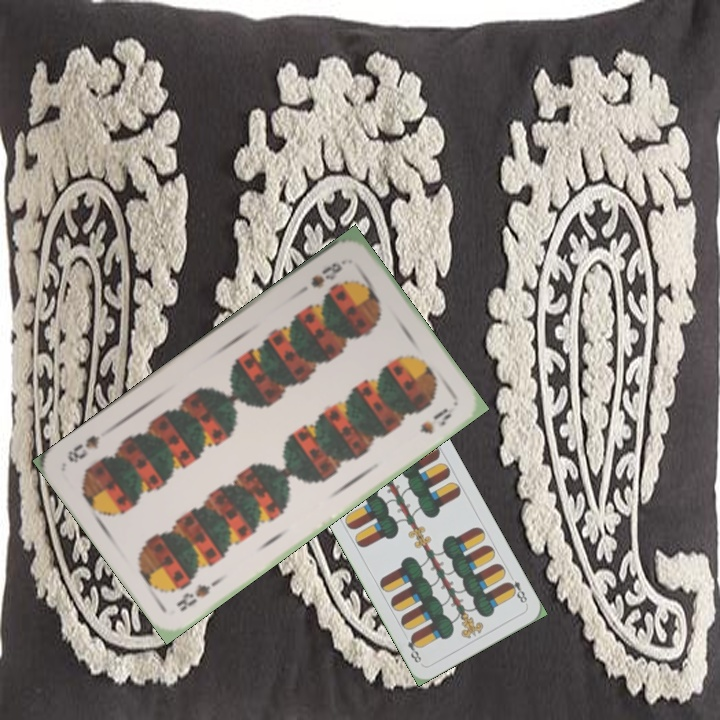E8: (503, 570, 530, 608)
S8: (172, 574, 224, 615), (306, 255, 349, 291)
